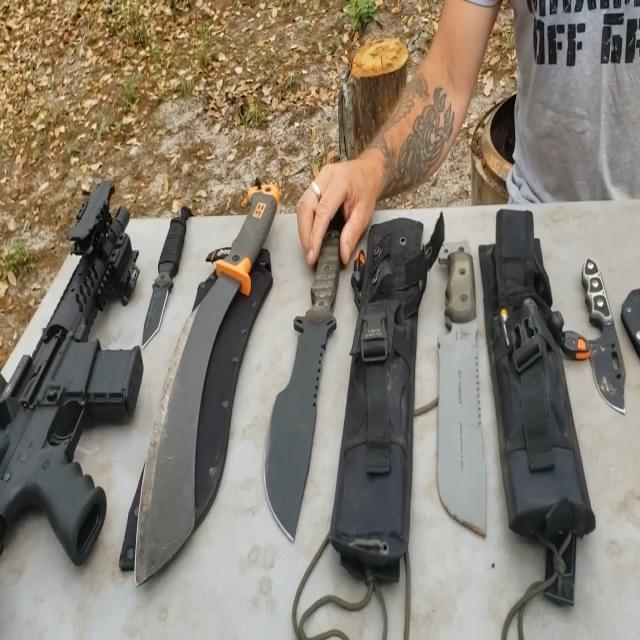knife: (122, 162, 283, 559), (242, 159, 372, 524), (422, 203, 516, 552), (565, 224, 639, 419), (146, 184, 199, 345)
long weapon: (0, 127, 148, 573)
